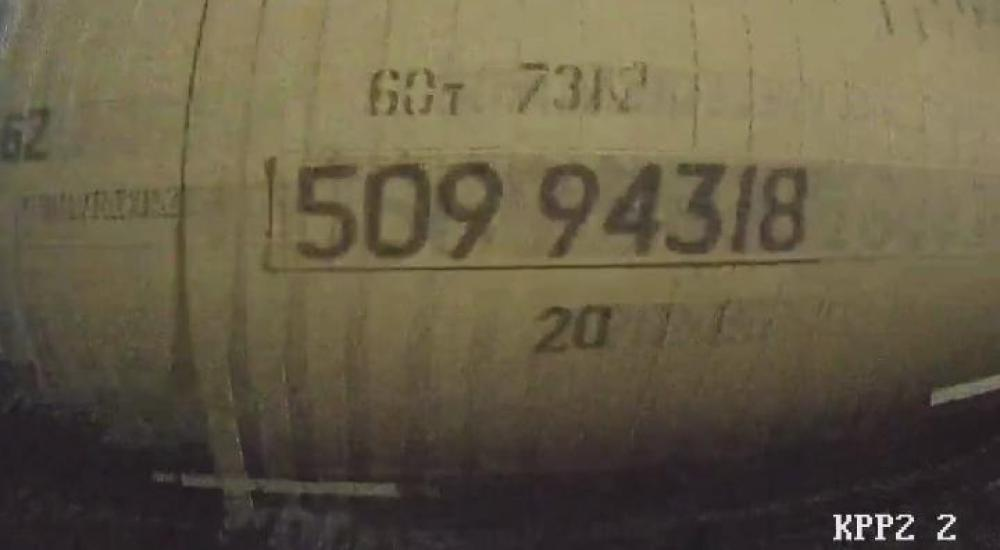Wagon-number: (287, 152, 817, 262)
